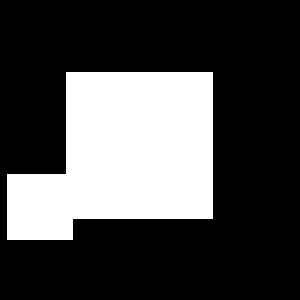circle: (66, 72, 213, 219), (7, 174, 73, 240)
